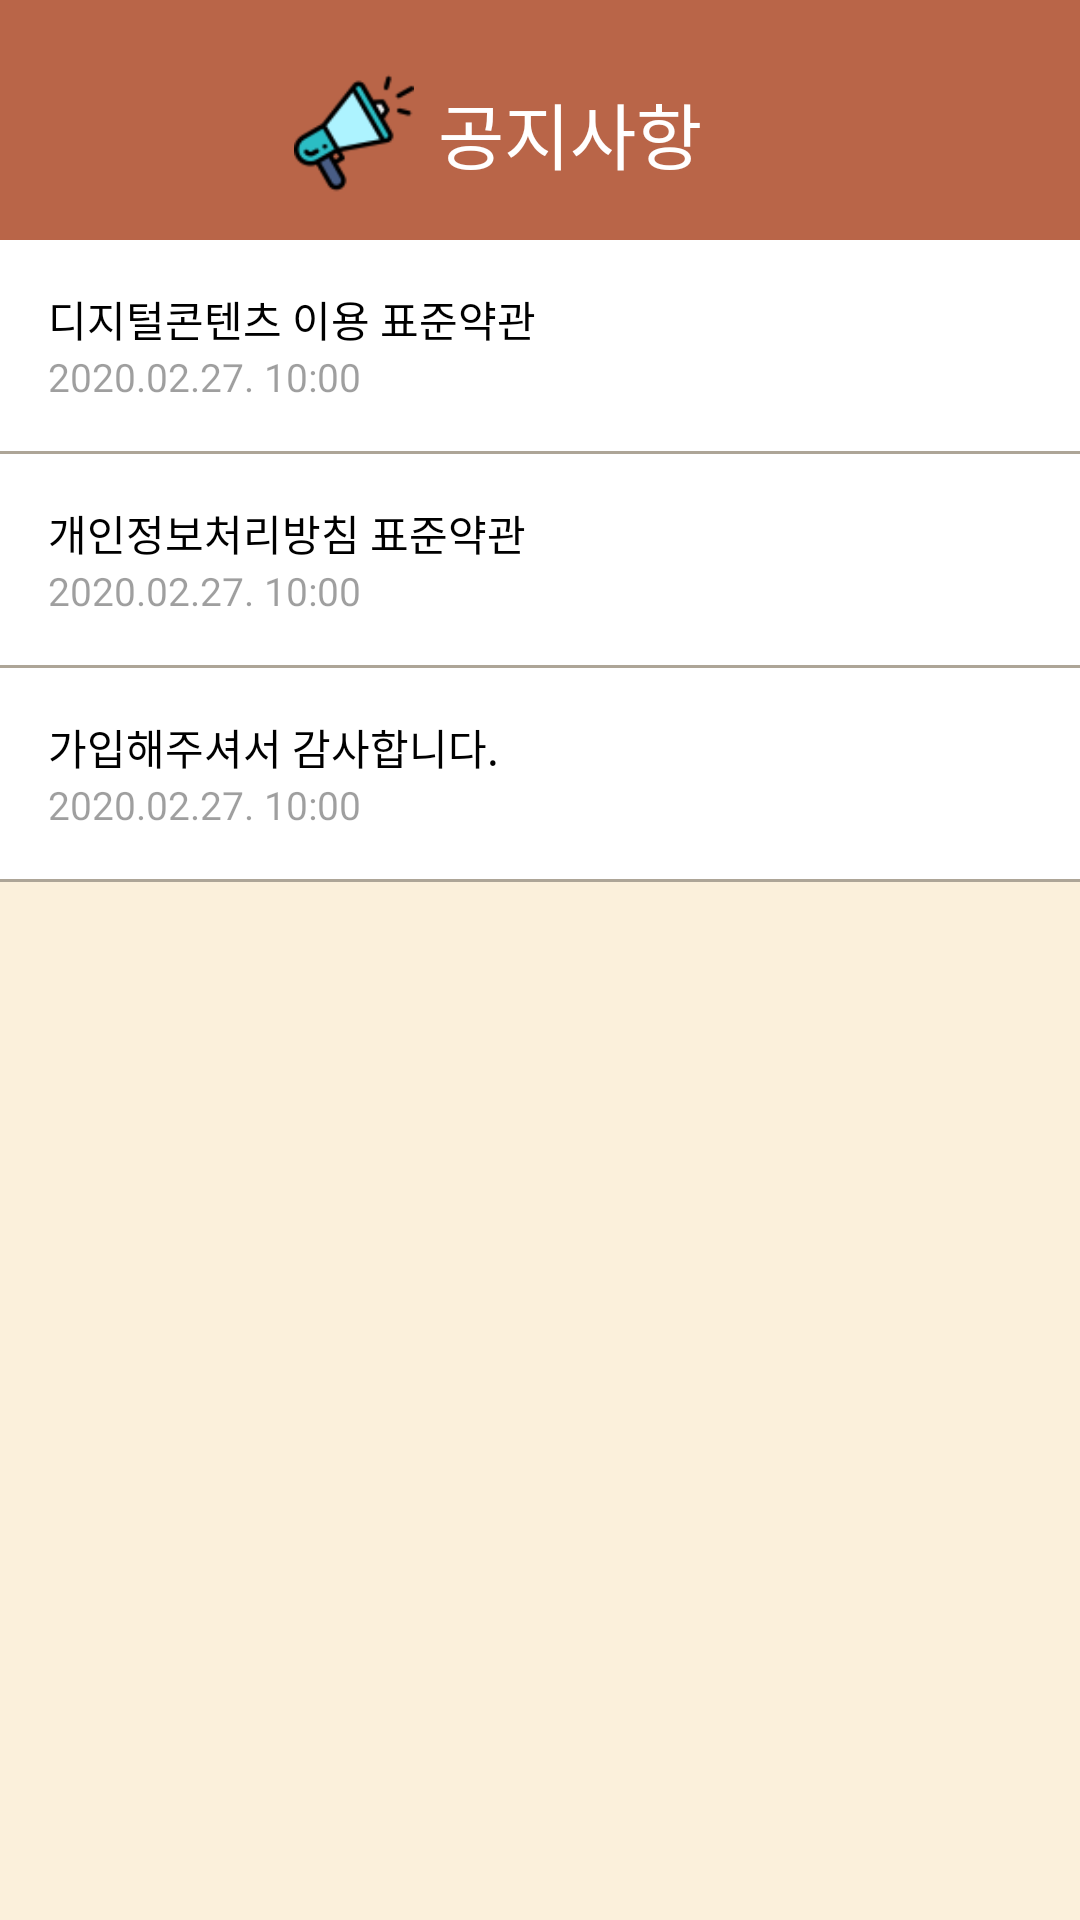

Where icons sit on this 1080 x 1920 app screen, as (x1, y1, x2, y2):
announce: (294, 75, 414, 191)
